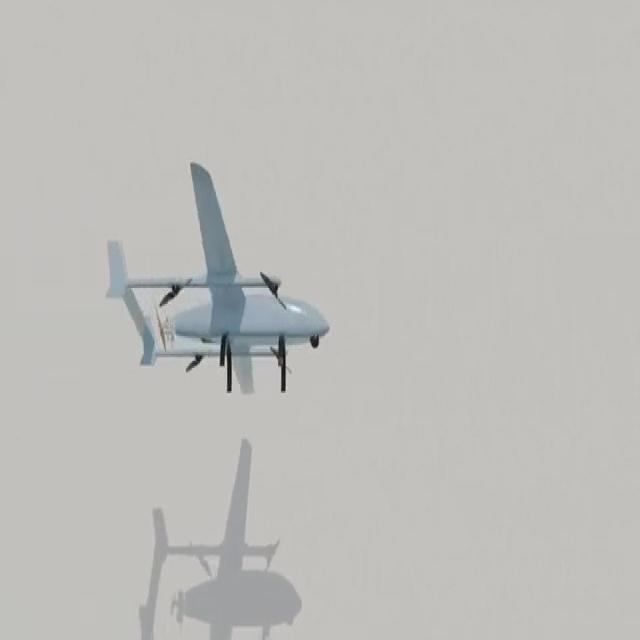drones: (85, 149, 333, 404)
